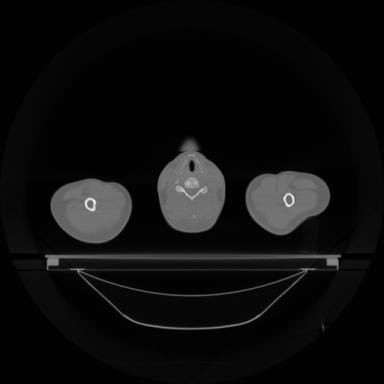body: (158, 150, 225, 232), (245, 171, 330, 235), (51, 178, 132, 243)
